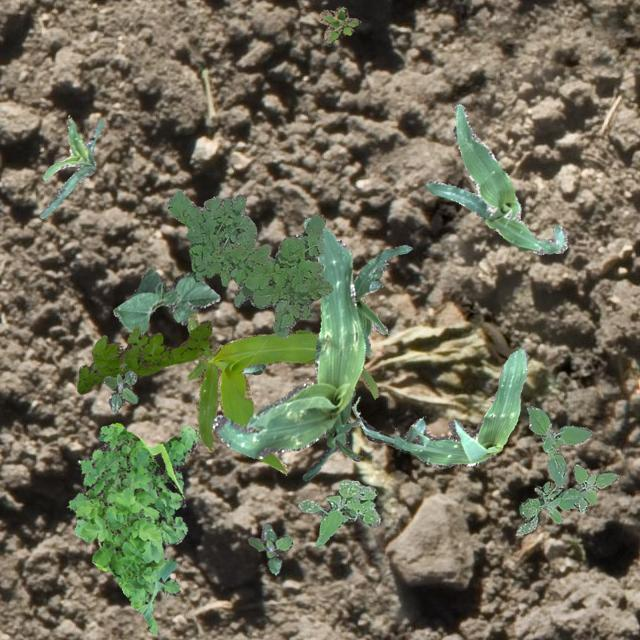crop: (212, 215, 364, 458), (186, 312, 378, 472), (426, 102, 566, 254), (350, 348, 526, 468), (112, 268, 218, 334), (352, 243, 412, 354), (38, 116, 102, 218), (302, 388, 361, 479), (240, 362, 266, 373)
weed: (66, 422, 198, 632), (166, 188, 332, 336), (514, 404, 618, 534), (76, 320, 212, 392), (297, 479, 378, 546), (246, 522, 292, 574), (102, 370, 138, 412), (316, 6, 358, 42)
